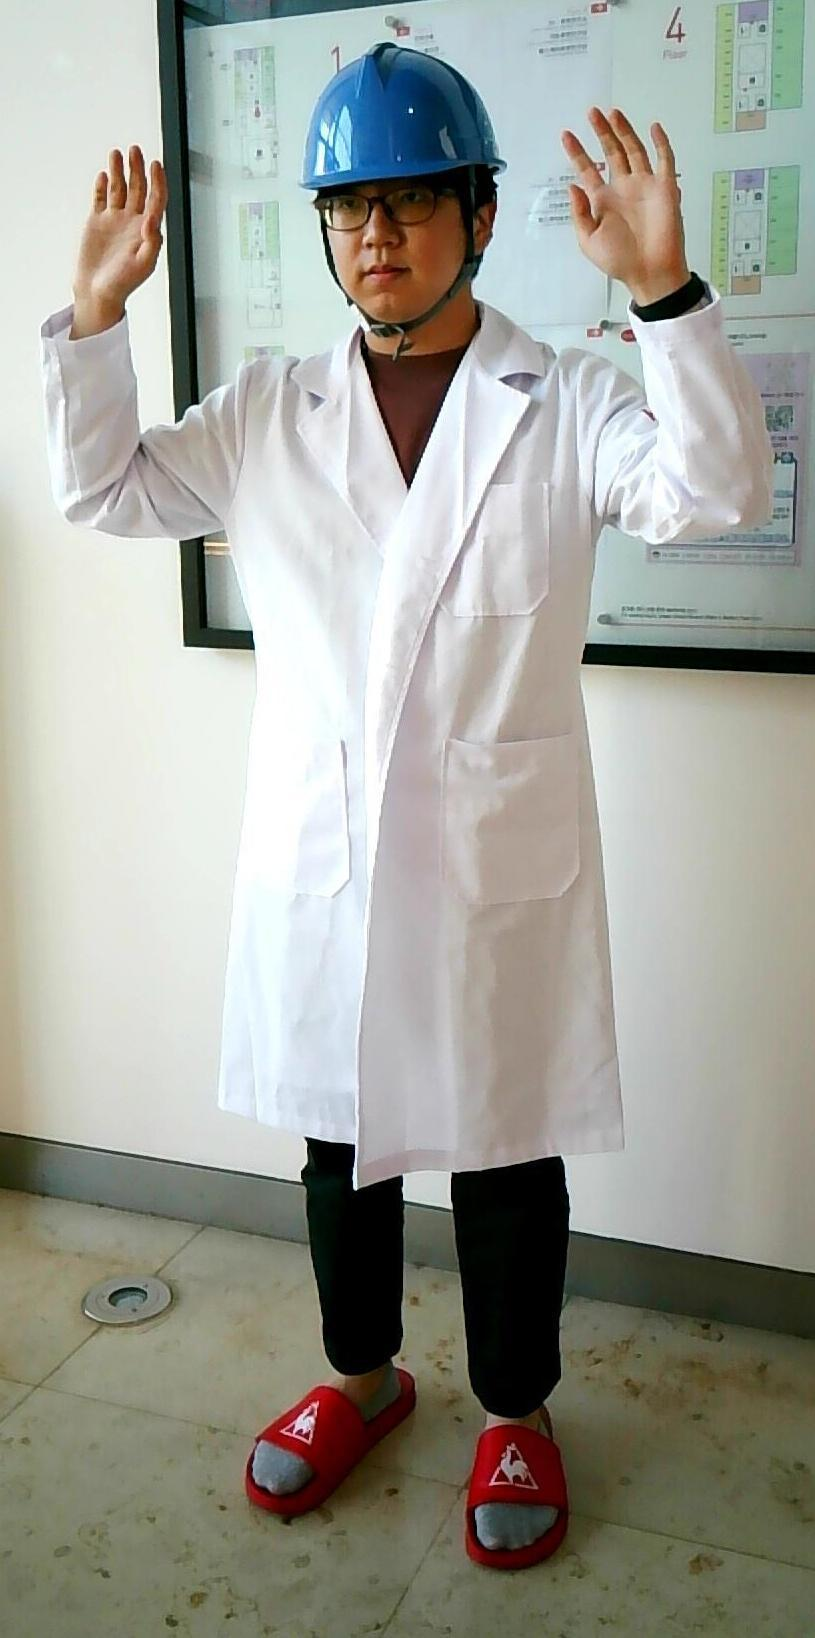lab_coat: (206, 354, 634, 1162)
